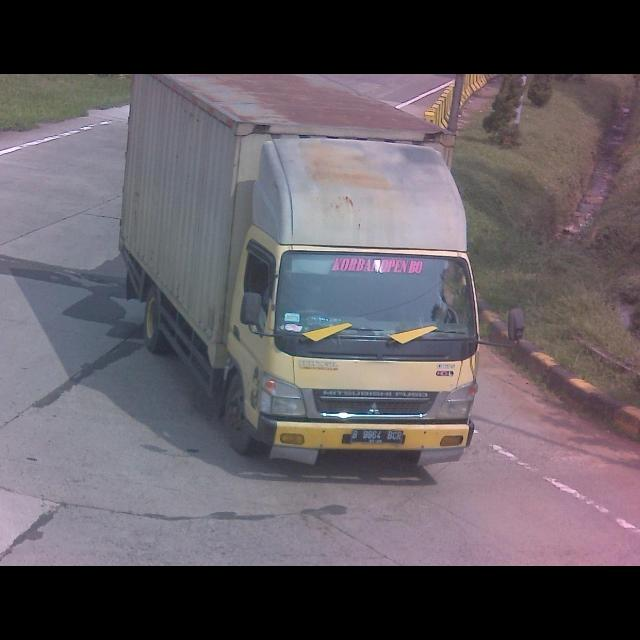plate: (351, 429, 401, 446)
